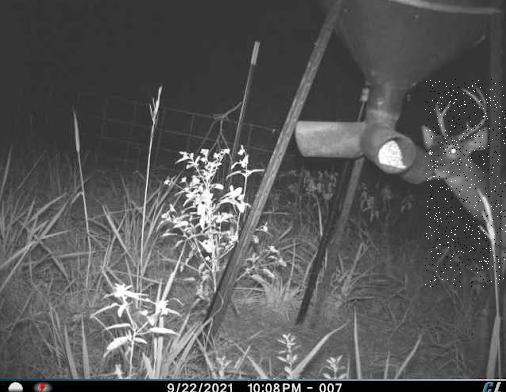Deer: (425, 79, 506, 287)
